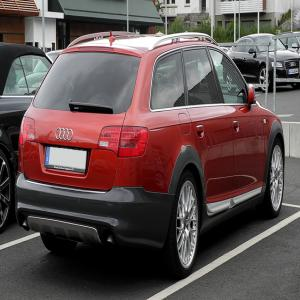Vehicle-registration-plate: (45, 147, 88, 175), (289, 69, 299, 76)
